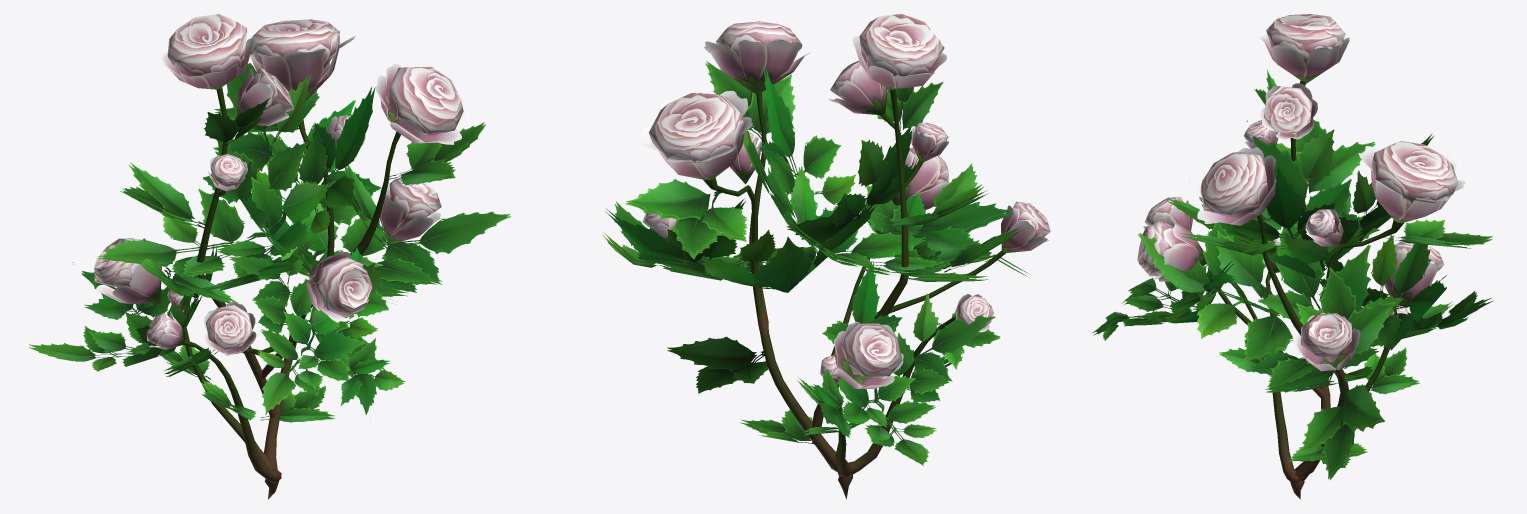
The model's file is SE_Rose_12.fbx.
The picture shows the model from 3 angles, left to right: view 1: azimuth 30°, elevation 25°; view 2: azimuth 150°, elevation 25°; view 3: azimuth 270°, elevation 25°; orthographic projection. The views are drawn at different scales.
Parts seen in each view (by area): view 1: SE_Rose_12; view 2: SE_Rose_12; view 3: SE_Rose_12.
Part boxes in pixels (<box>): SE_Rose_12: <box>29,14,510,499</box>; SE_Rose_12: <box>602,14,1050,499</box>; SE_Rose_12: <box>1092,14,1493,499</box>.
Size of the model in its own units: 5.24 by 5.55 by 4.74.
